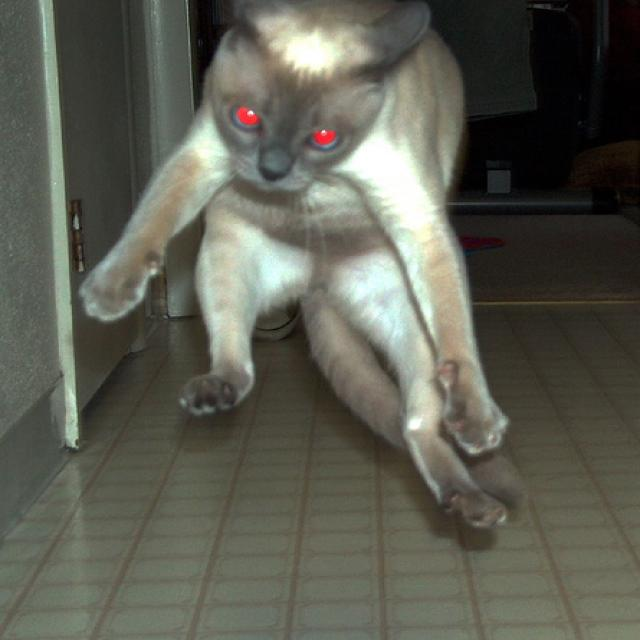left eye: (304, 125, 342, 151)
